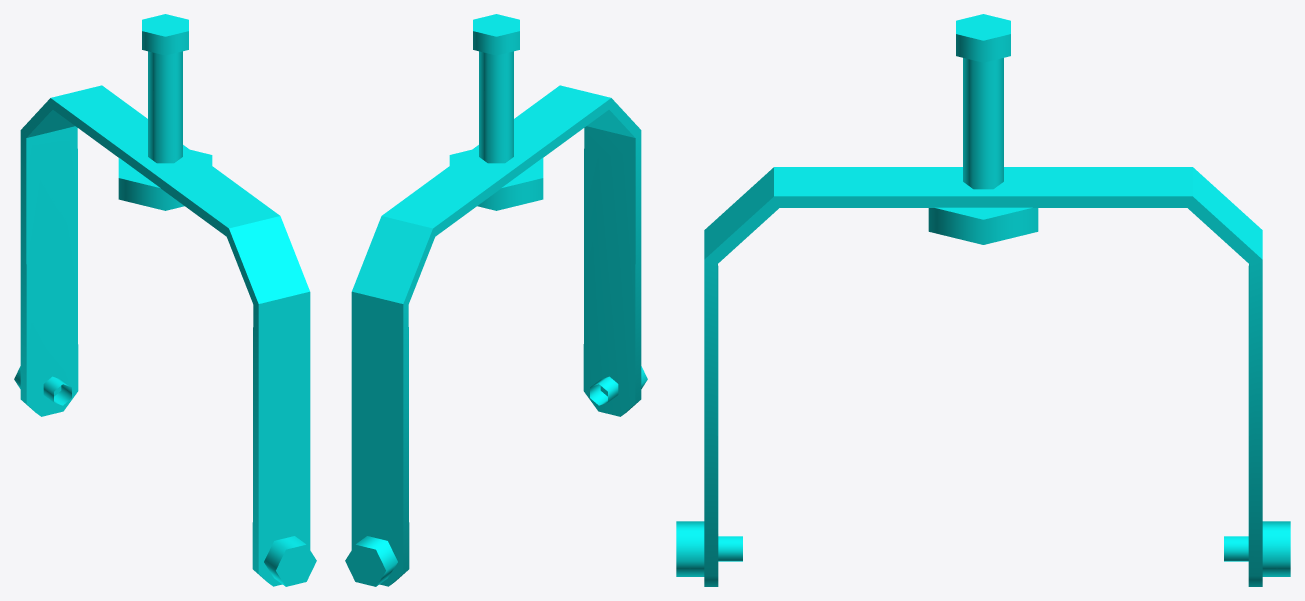
File: Spot_Holder.fbx
3 views of the same model, side by side, from view 1: azimuth 30°, elevation 25°; view 2: azimuth 150°, elevation 25°; view 3: azimuth 270°, elevation 25° (orthographic). The views are drawn at different scales.
Visible parts, largest first — view 1: Handle; view 2: Handle; view 3: Handle.
Boxes of the visible parts, left/top/right/bottom form: Handle: left=14, top=14, right=316, bottom=586; Handle: left=345, top=14, right=647, bottom=586; Handle: left=676, top=14, right=1290, bottom=586.
Bounding box in the file's own units: 9.1 × 43.74 × 44.
